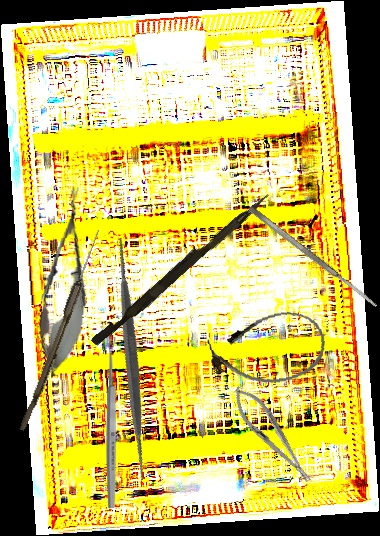Cannula: (204, 305, 331, 393)
Micro Scissor: (31, 183, 99, 379)
Needle Holder: (224, 379, 320, 491)
Pusher: (90, 185, 272, 352)
Spatula Surgical: (0, 229, 262, 490), (247, 204, 379, 310)
Surgical Spoon: (19, 228, 103, 433), (106, 337, 117, 508)
